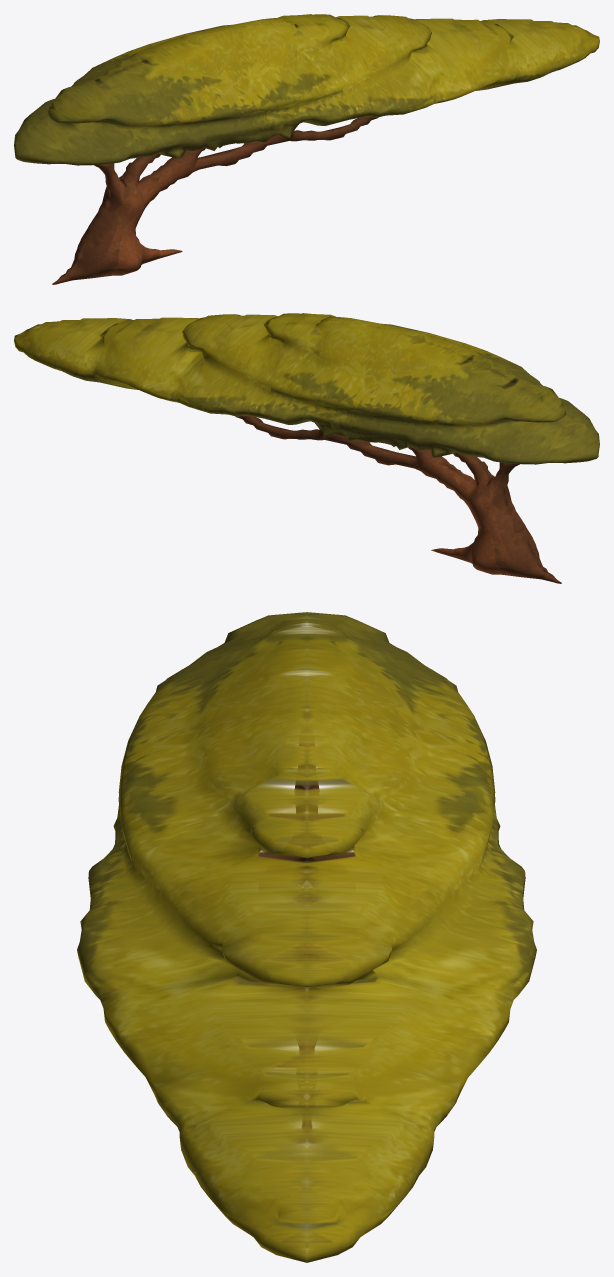
Rendered from 22_trees_a_r00_c00.glb.
3 renders of one model, top to bottom at view 1: azimuth 30°, elevation 25°; view 2: azimuth 150°, elevation 25°; view 3: azimuth 270°, elevation 25°, orthographic. The views are drawn at different scales.
Parts seen in each view (by area): view 1: 22_trees_a_r00_c00; view 2: 22_trees_a_r00_c00; view 3: 22_trees_a_r00_c00.
Part boxes in pixels (x1,y1,x2,y2): 22_trees_a_r00_c00: (14, 14, 599, 284); 22_trees_a_r00_c00: (14, 313, 599, 583); 22_trees_a_r00_c00: (77, 612, 536, 1262).
Bounding box in the file's own units: 10.06 × 3.49 × 3.43.
Materials: 1 (1 with a texture image).
